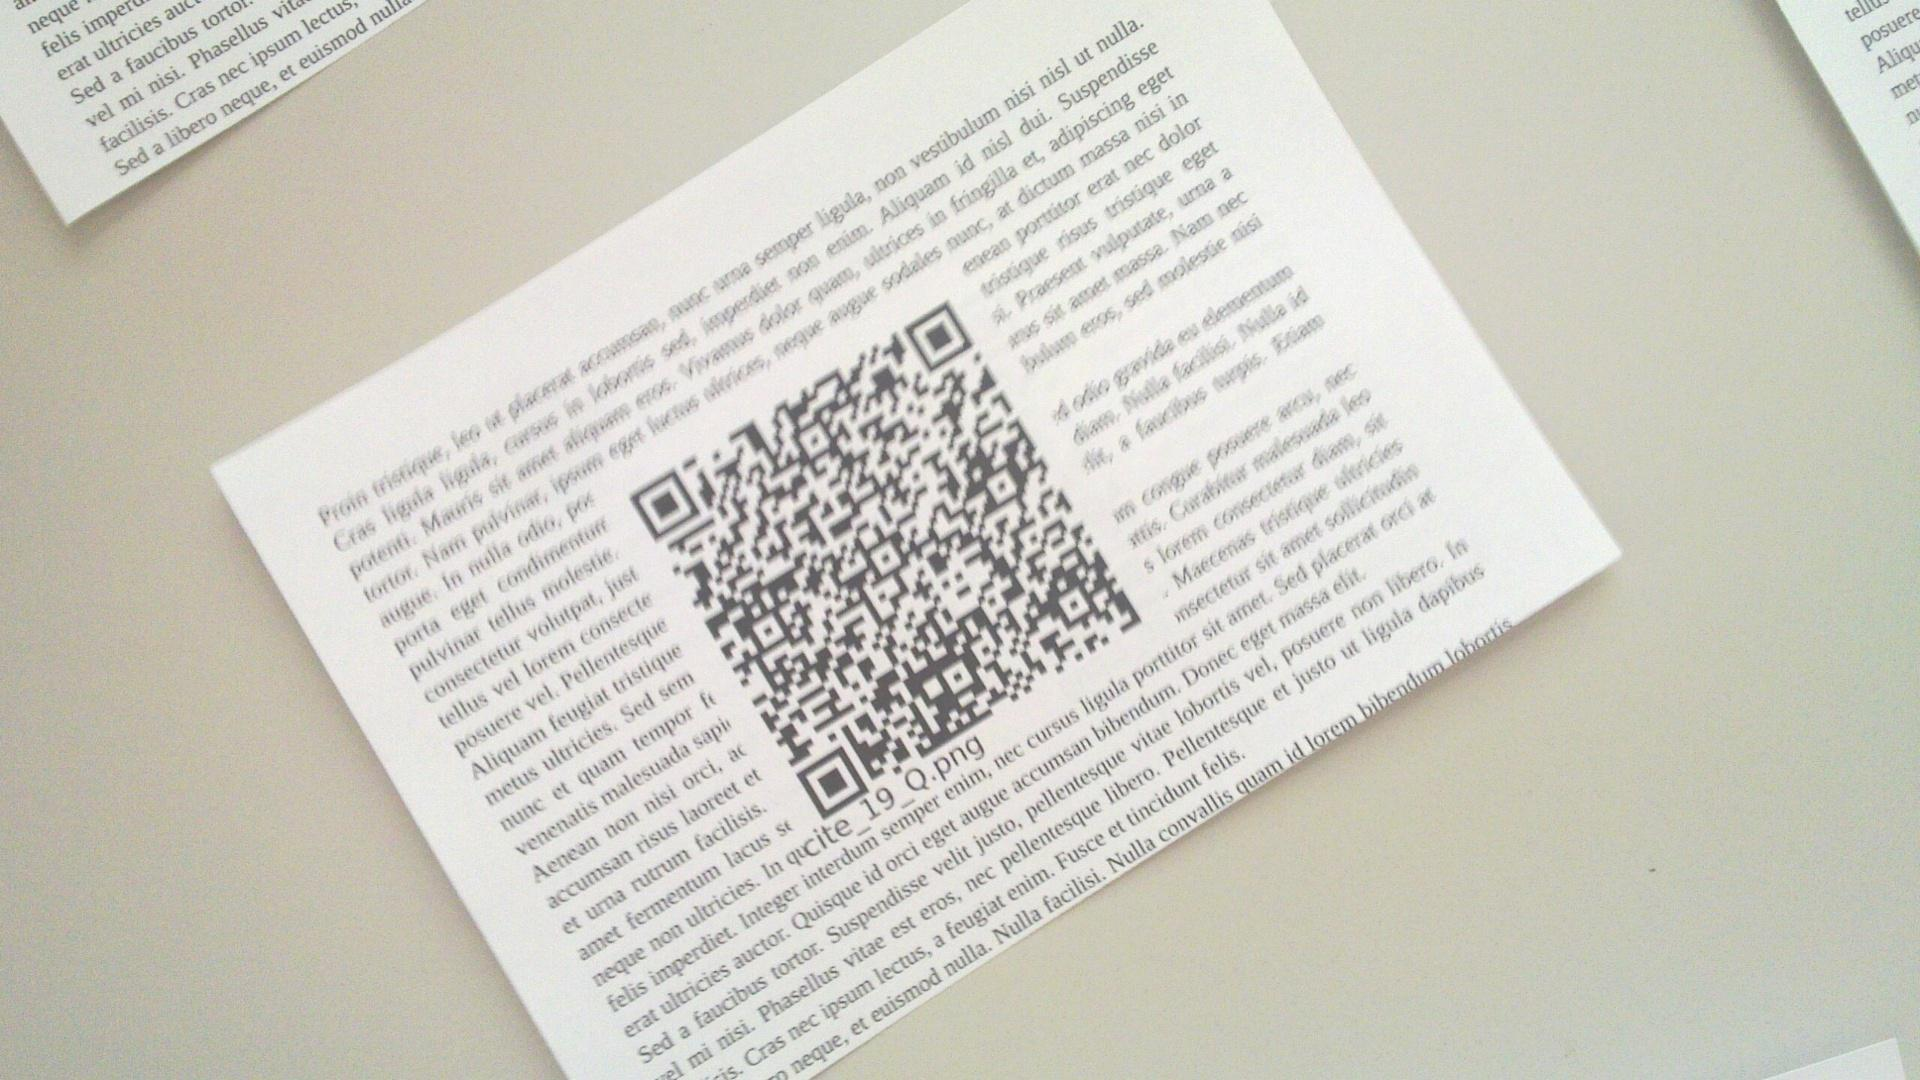Finder pattern: (796, 745, 869, 818), (905, 303, 978, 372), (632, 469, 698, 538)
